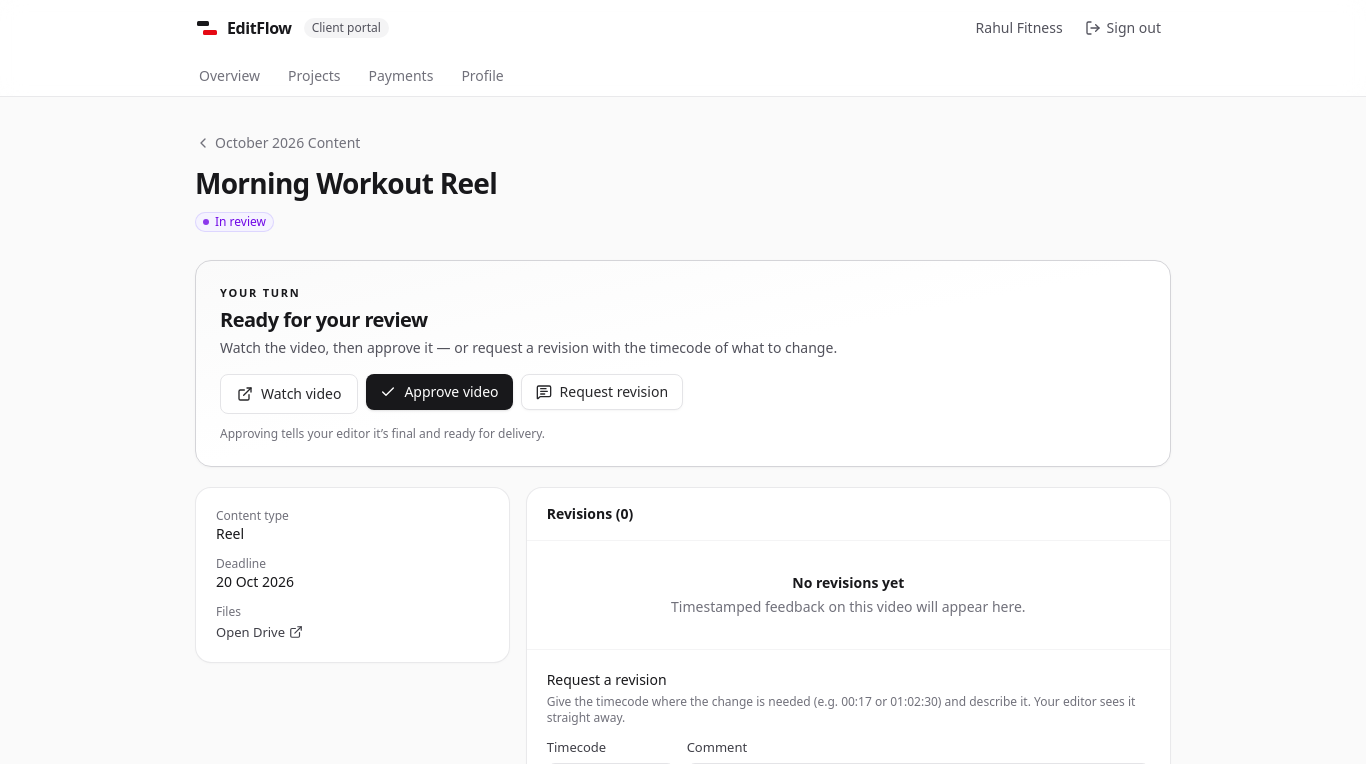
Test: client video approval › shows the backend’s message when approval is refused
Click the button "Approve video" at [440, 392], box [366,374,513,410]
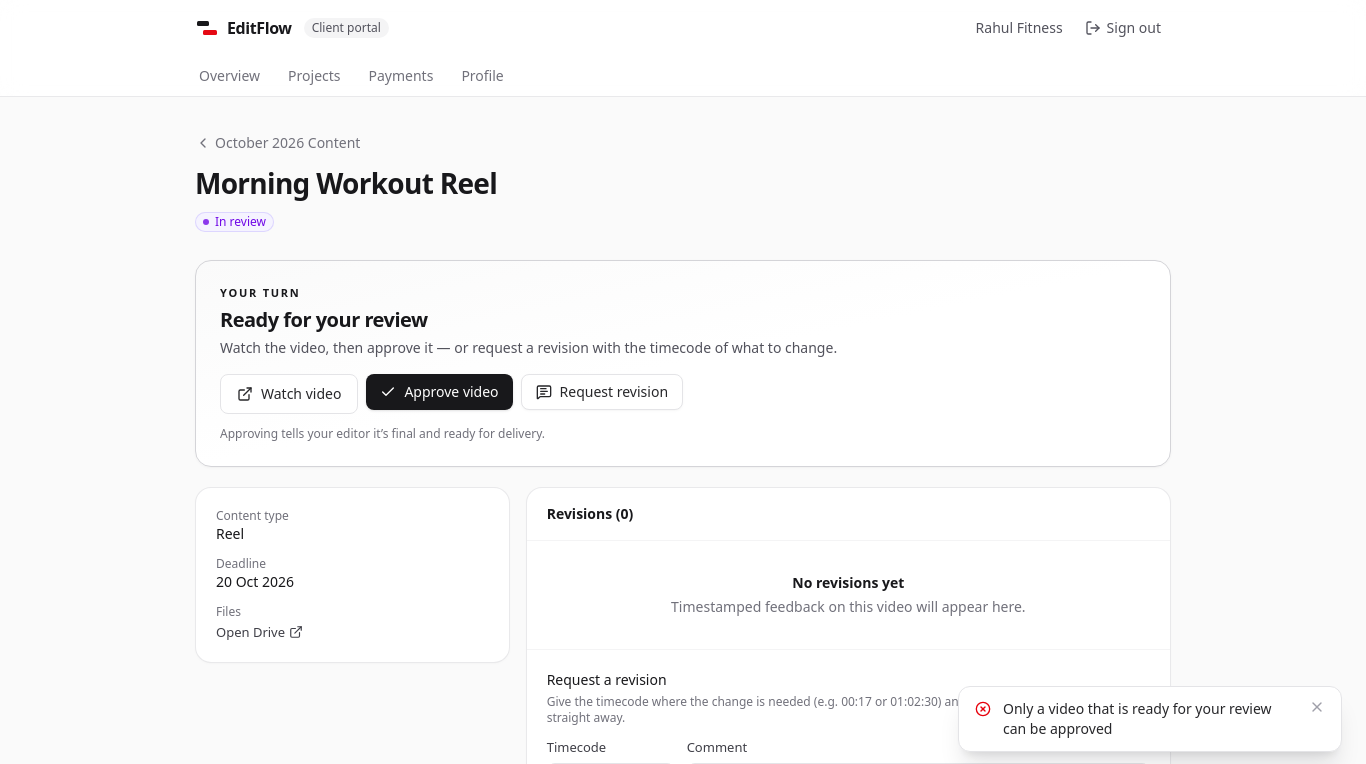
Now the text "Only a video that is ready for your review can be approved" is shown, box [1003,699,1297,739]
